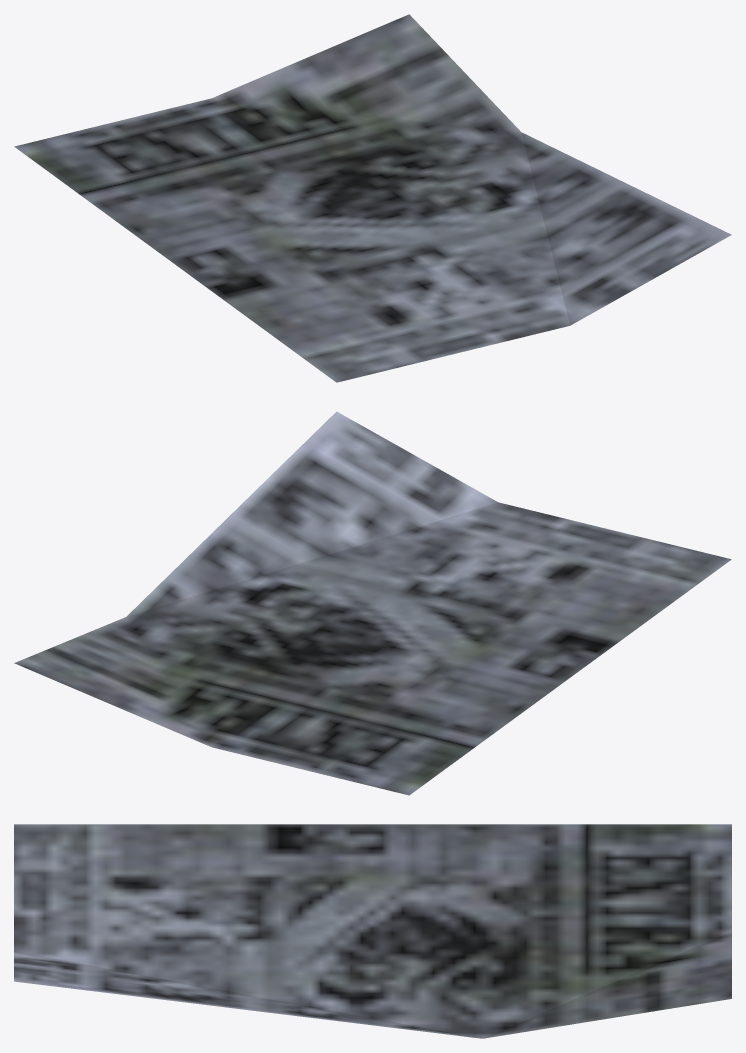
The model's file is M_Home_Garden_paper07.fbx.
The picture shows the model from 3 angles, top to bottom: view 1: azimuth 30°, elevation 25°; view 2: azimuth 150°, elevation 25°; view 3: azimuth 270°, elevation 25°; orthographic projection. The views are drawn at different scales.
Visible parts, largest first — view 1: M_Home_Garden_paper07; view 2: M_Home_Garden_paper07; view 3: M_Home_Garden_paper07.
Part boxes in pixels (box(x1,y1,x2,y2)): M_Home_Garden_paper07: box(14, 14, 731, 382); M_Home_Garden_paper07: box(14, 411, 731, 795); M_Home_Garden_paper07: box(14, 824, 731, 1038).
Bounding box in the file's own units: 30.2 × 3.75 × 42.69.
